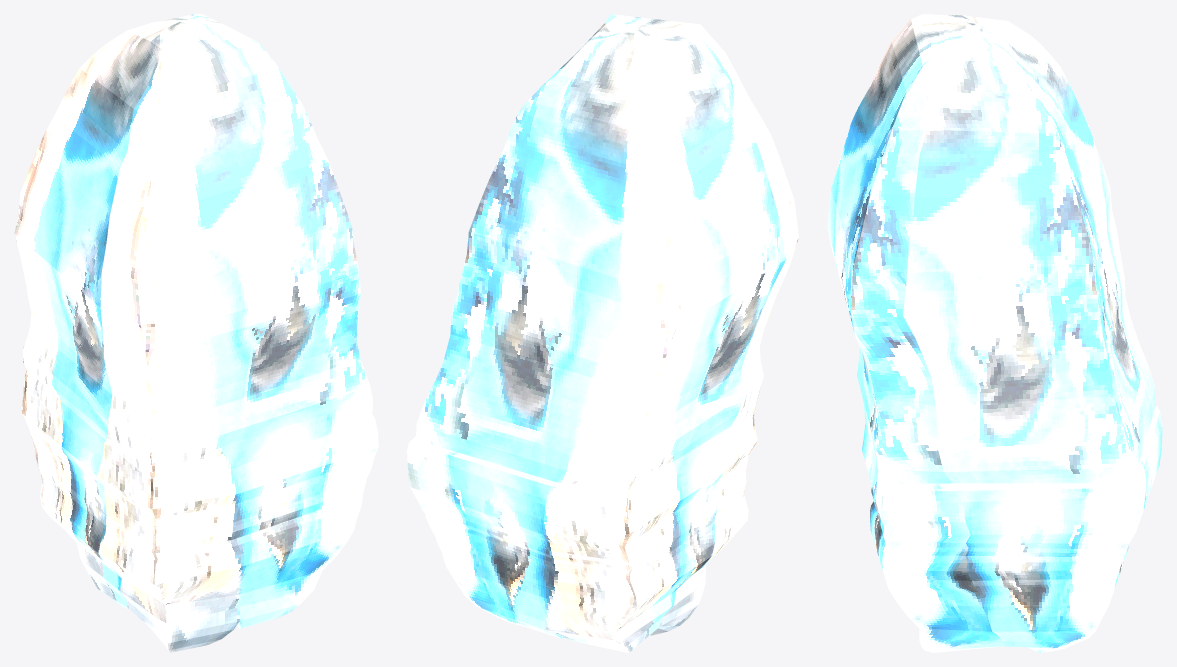
File: metamorphosis_v7_T.glb
3 views of the same model, side by side, from view 1: azimuth 30°, elevation 25°; view 2: azimuth 150°, elevation 25°; view 3: azimuth 270°, elevation 25° (orthographic).
Visible parts, largest first — view 1: Cube; view 2: Cube; view 3: Cube.
Boxes of the visible parts, bbox=[...] form: Cube: bbox=[14, 14, 378, 652]; Cube: bbox=[407, 14, 798, 652]; Cube: bbox=[827, 14, 1162, 652].
Size of the model in its own units: 1.32 by 2.79 by 1.39.
